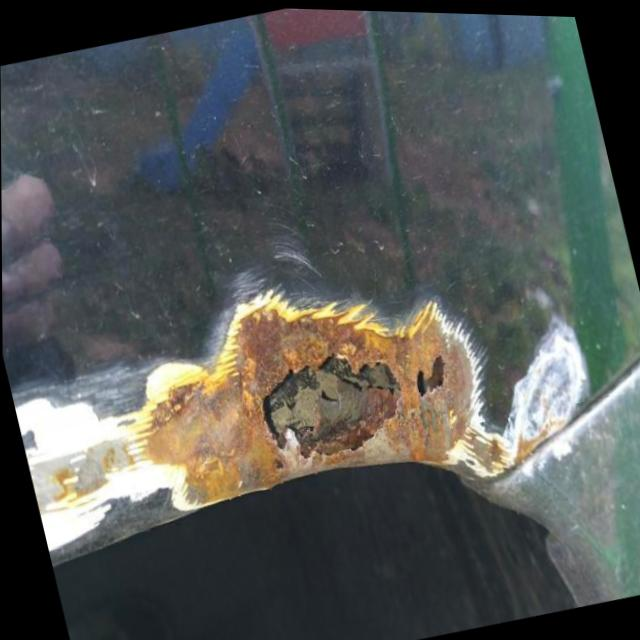Crack: (258, 352, 405, 460), (415, 353, 450, 397)
Paint-fading: (13, 360, 204, 553), (505, 315, 592, 473)
Rust: (45, 279, 578, 523)
